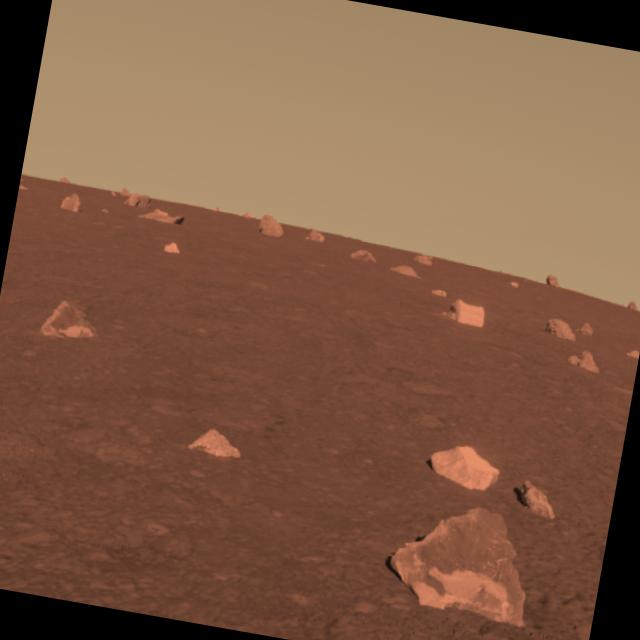rock: (375, 488, 551, 632), (417, 436, 507, 498), (34, 288, 103, 350)
